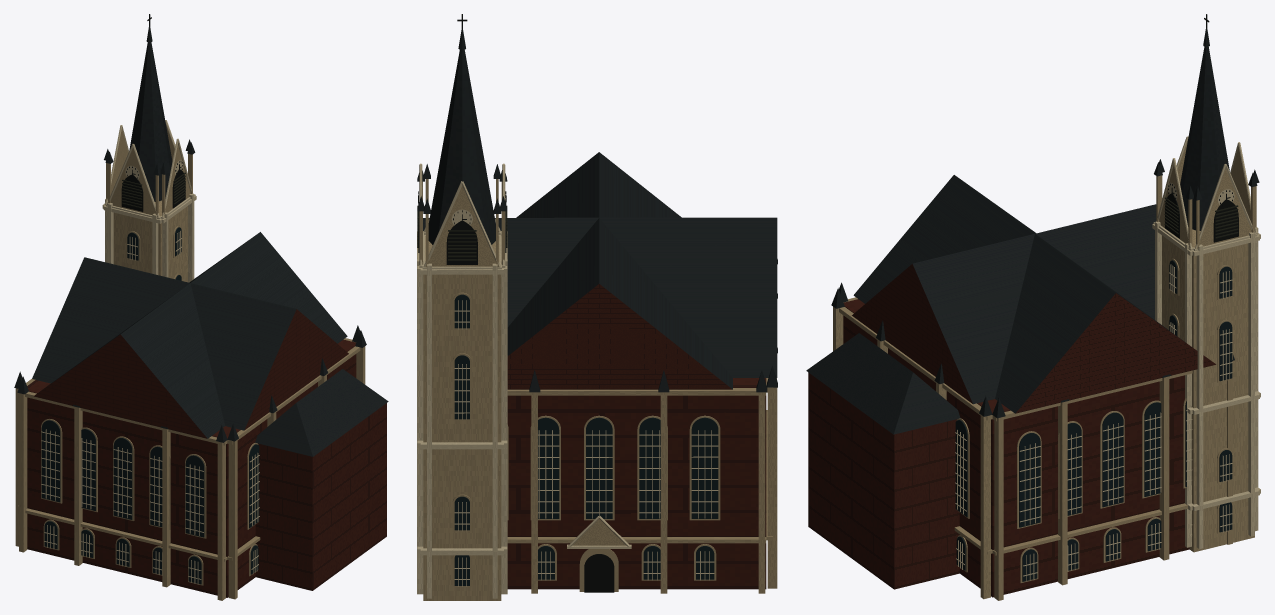
The picture shows the model from 3 angles, left to right: view 1: azimuth 30°, elevation 25°; view 2: azimuth 150°, elevation 25°; view 3: azimuth 270°, elevation 25°; orthographic projection. The views are drawn at different scales.
Visible parts, largest first — view 1: westerkerk-0, westerkerk-1, westerkerk-2, westerkerk-3, westerkerk-4, westerkerk-5, westerkerk-6; view 2: westerkerk-1, westerkerk-0, westerkerk-2, westerkerk-4, westerkerk-3, westerkerk-5, westerkerk-6; view 3: westerkerk-0, westerkerk-1, westerkerk-2, westerkerk-4, westerkerk-3, westerkerk-5, westerkerk-6.
Part boxes in pixels (x1,y1,x2,y2): westerkerk-0: (27,309,386,597); westerkerk-1: (14,26,388,456); westerkerk-2: (15,125,365,600); westerkerk-3: (41,227,259,584); westerkerk-4: (41,120,259,584); westerkerk-5: (121,14,185,211); westerkerk-6: (122,172,185,208); westerkerk-1: (417,29,777,392); westerkerk-0: (507,284,766,589); westerkerk-2: (419,179,777,600); westerkerk-4: (417,163,718,598); westerkerk-3: (454,294,718,585); westerkerk-5: (418,14,614,592); westerkerk-6: (417,205,507,260); westerkerk-0: (808,264,1215,597); westerkerk-1: (806,28,1259,434); westerkerk-2: (833,142,1256,600); westerkerk-4: (955,136,1260,581); westerkerk-3: (955,260,1232,581); westerkerk-5: (1165,14,1238,242); westerkerk-6: (1164,197,1238,238).
Size of the model in its own units: 41.39 by 56.5 by 44.98.
7 materials, 7 textured.
